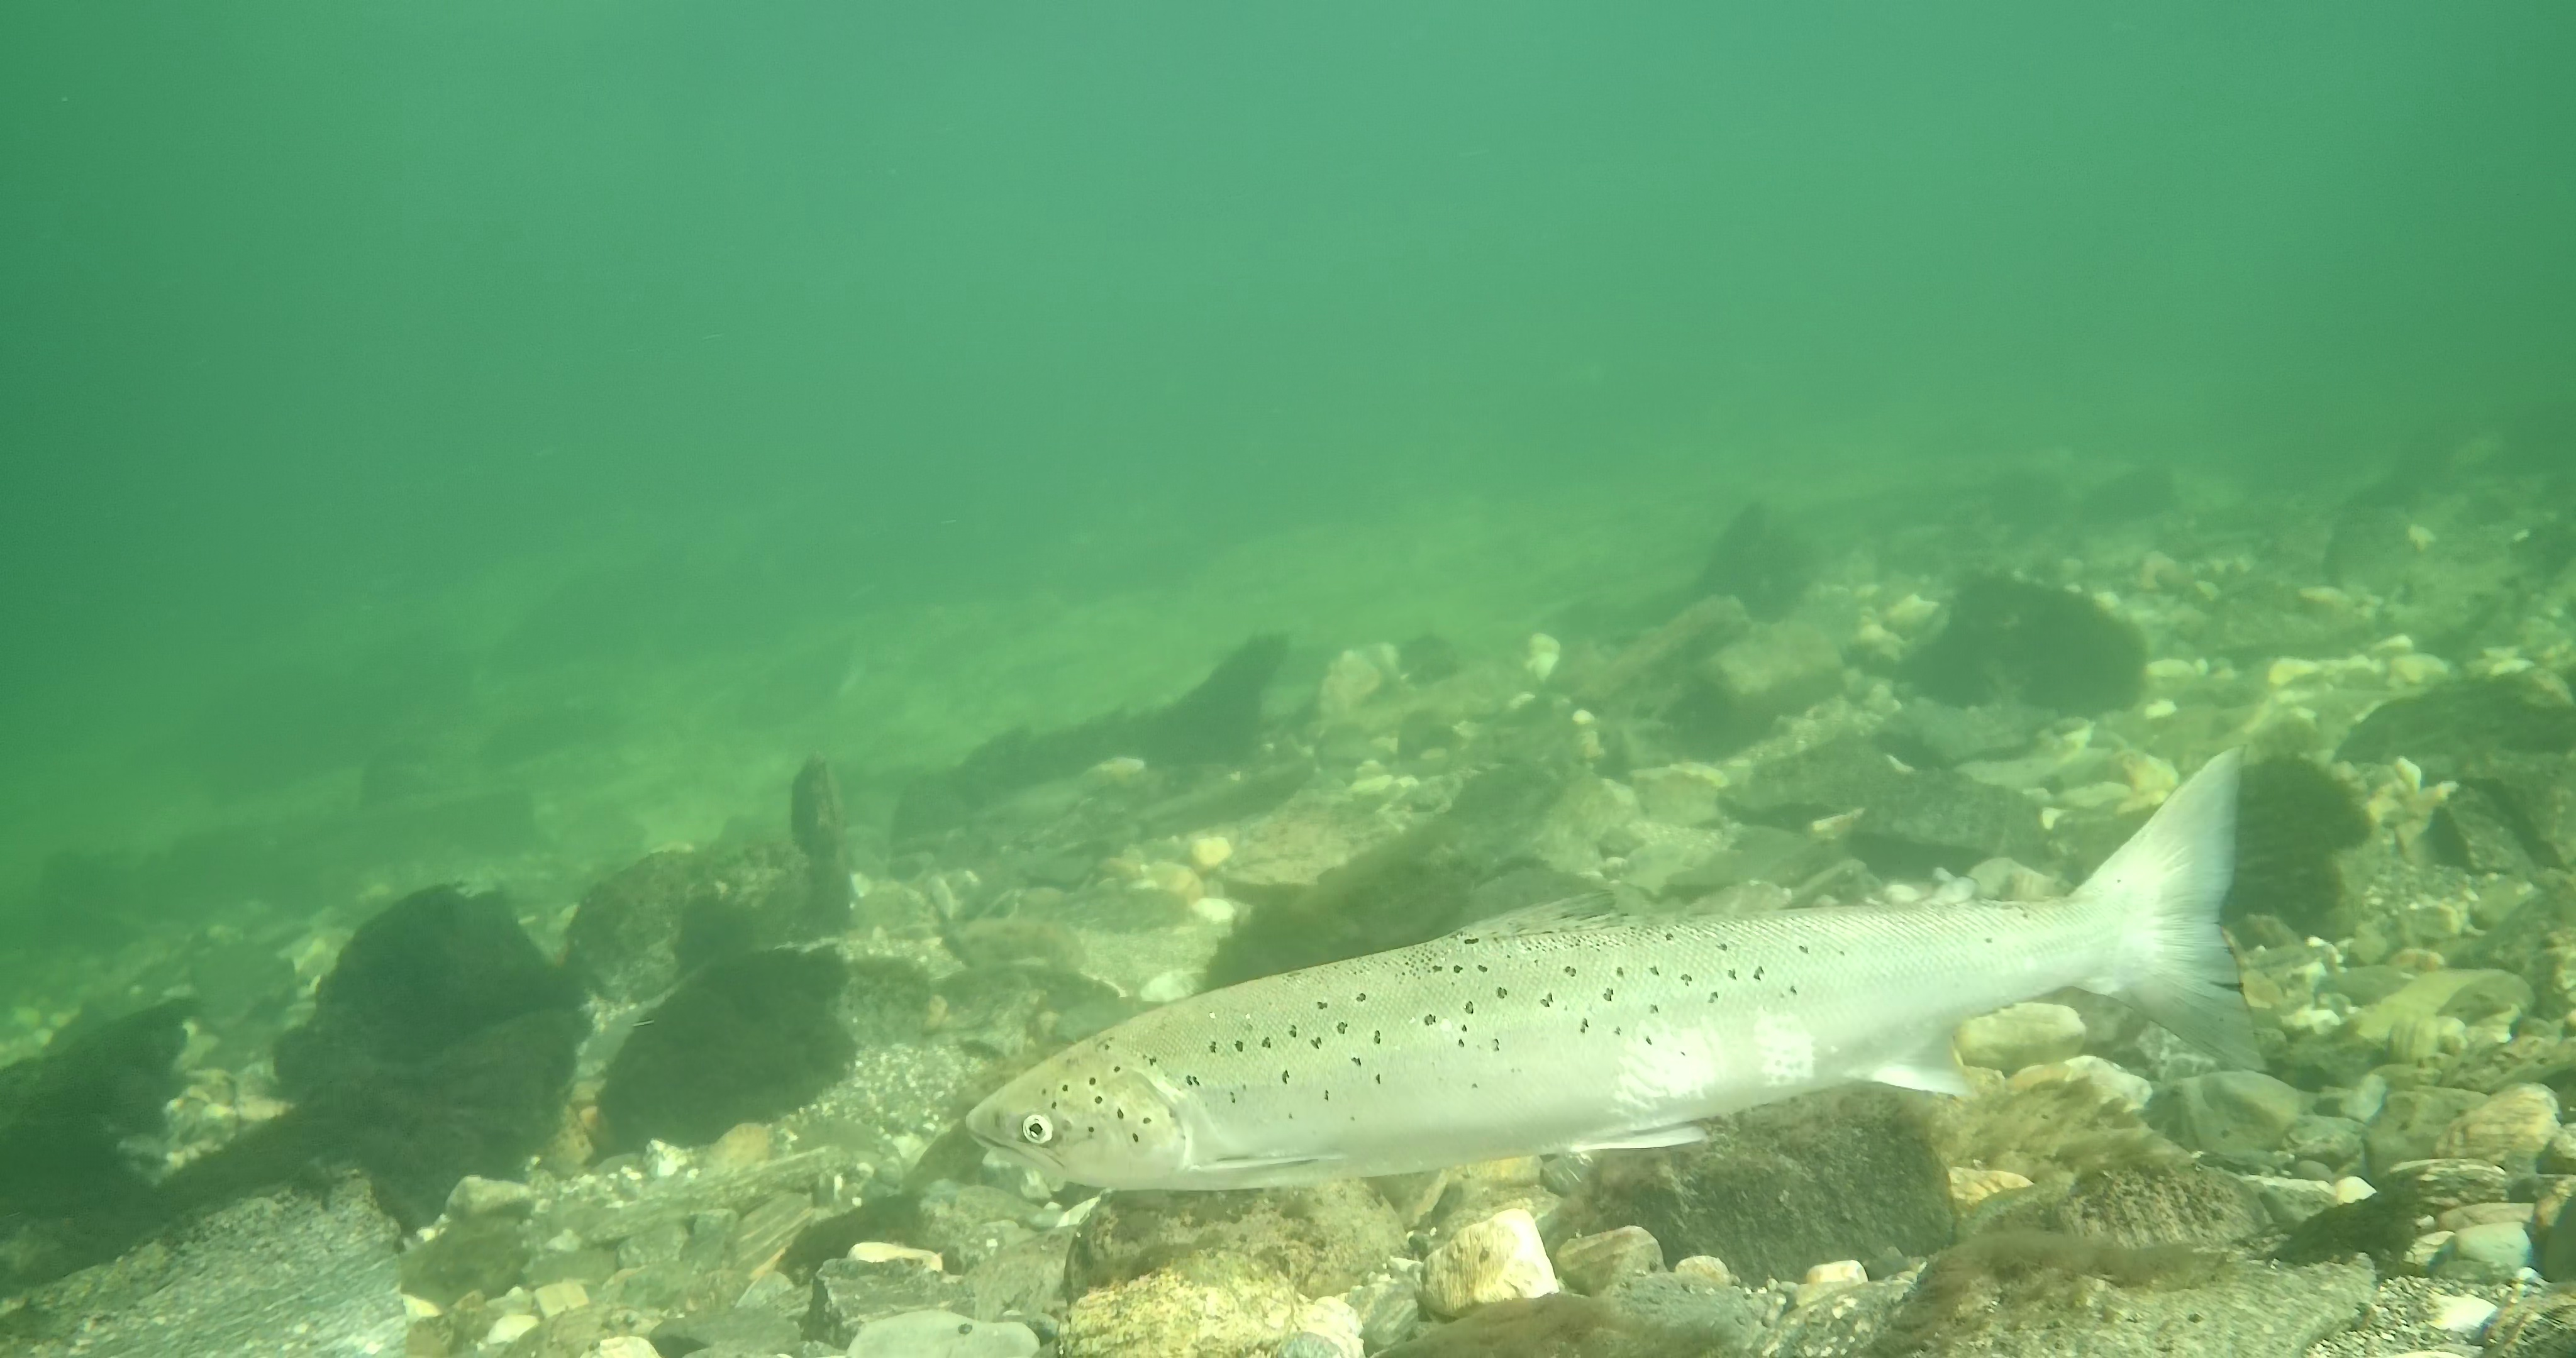salmon: (959, 745, 2271, 1194)
